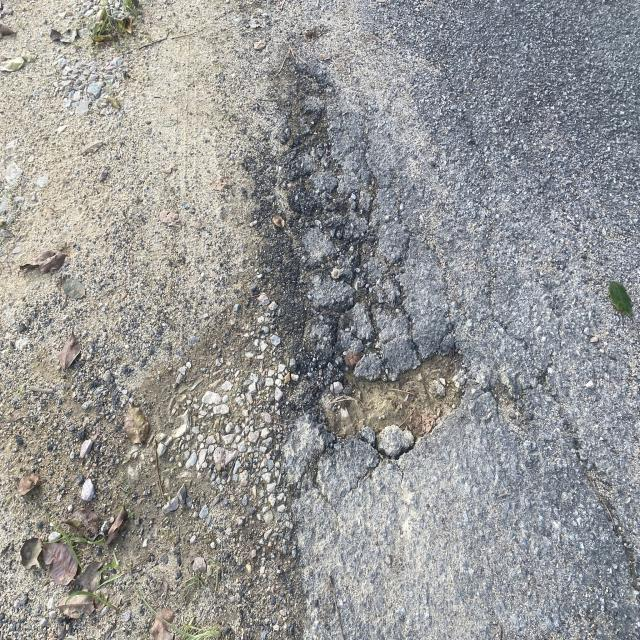Pothole: (238, 81, 491, 541)
